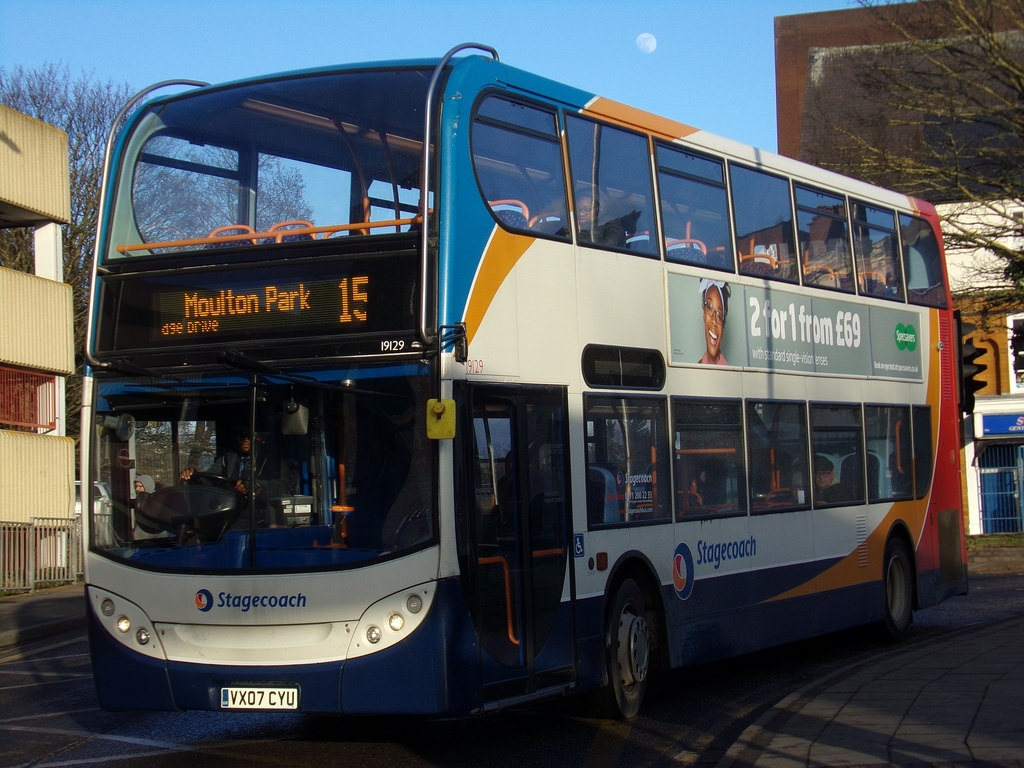bus: (47, 65, 966, 707)
